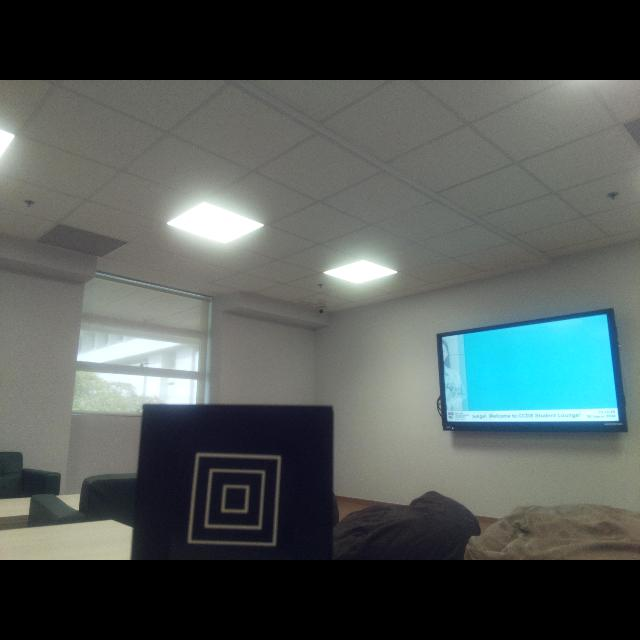BULLSEYE: (187, 453, 281, 547)
